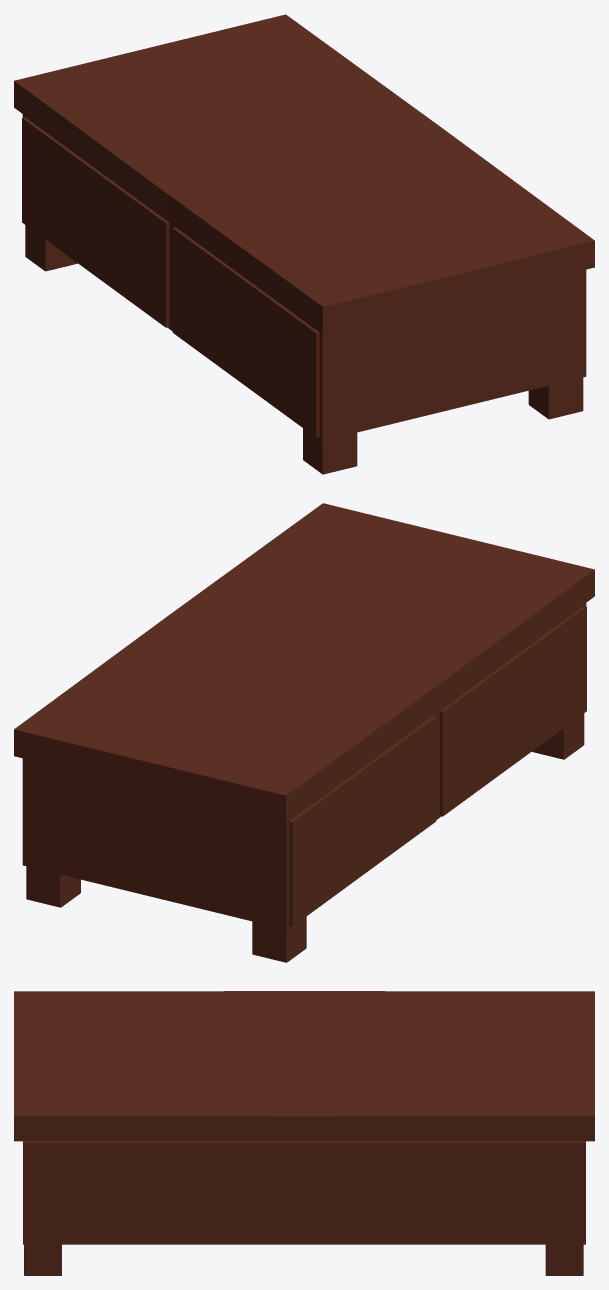
3 views of the same model, one above another, from view 1: azimuth 30°, elevation 25°; view 2: azimuth 150°, elevation 25°; view 3: azimuth 270°, elevation 25° (orthographic). The views are drawn at different scales.
Parts seen in each view (by area): view 1: Cube.002, Cube.003; view 2: Cube.002, Cube.003; view 3: Cube.002, Cube.003.
Part boxes in pixels (x1=…): Cube.002: x1=14, y1=14, x2=594, y2=440; Cube.003: x1=25, y1=225, x2=583, y2=474; Cube.002: x1=14, y1=503, x2=594, y2=929; Cube.003: x1=26, y1=713, x2=584, y2=962; Cube.002: x1=14, y1=991, x2=594, y2=1244; Cube.003: x1=24, y1=1244, x2=583, y2=1275.
Size of the model in its own units: 413 by 250 by 809.
